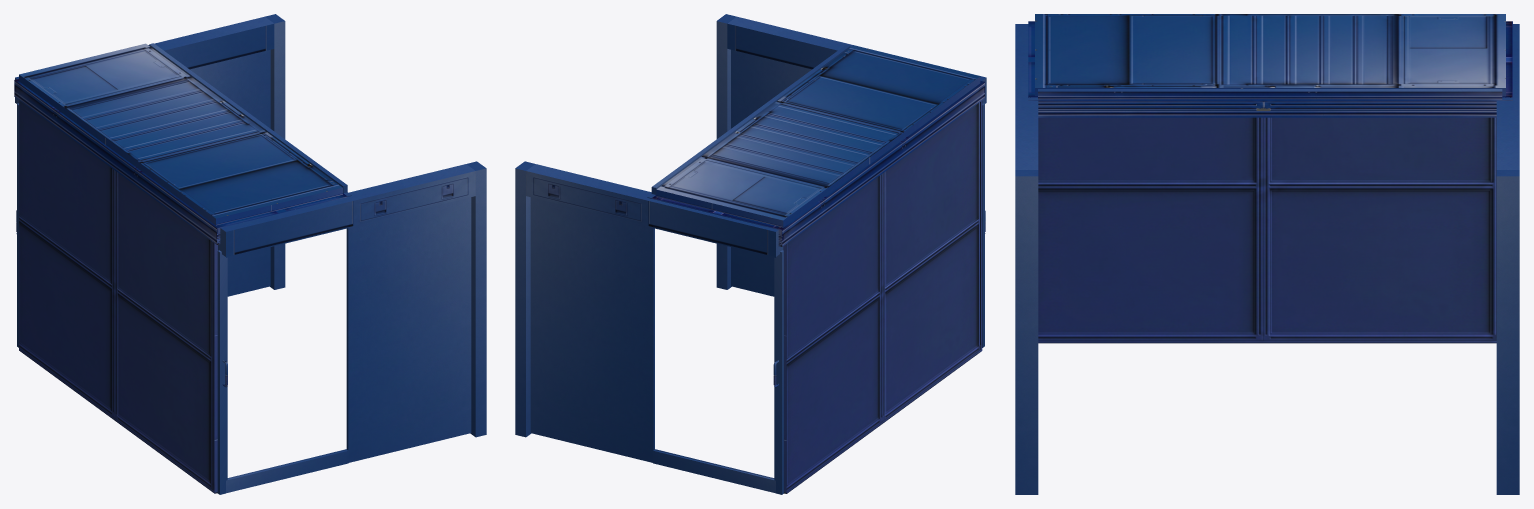
The model's file is in_row_frame.glb.
3 views of the same model, side by side, from view 1: azimuth 30°, elevation 25°; view 2: azimuth 150°, elevation 25°; view 3: azimuth 270°, elevation 25° (orthographic). The views are drawn at different scales.
Visible parts, largest first — view 1: S_R_05; view 2: S_R_05; view 3: S_R_05.
Part boxes in pixels (x1=…): S_R_05: x1=14, y1=14, x2=486, y2=494; S_R_05: x1=515, y1=14, x2=986, y2=494; S_R_05: x1=1015, y1=14, x2=1519, y2=494.
Bounding box in the file's own units: 2.36 × 2.34 × 3.26.
1 material, 1 textured.
